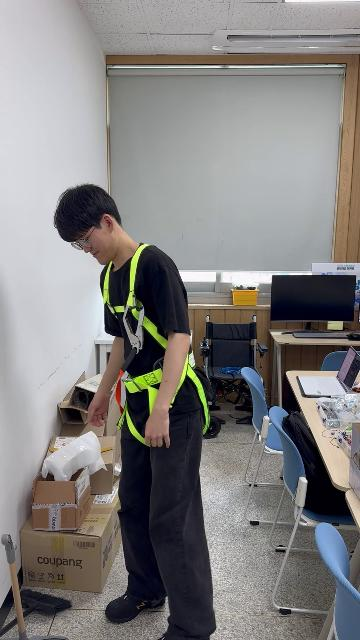helmet_not_worn: (52, 185, 127, 242)
shoe_worn: (103, 591, 165, 622)
vest_worn: (103, 245, 214, 442)
